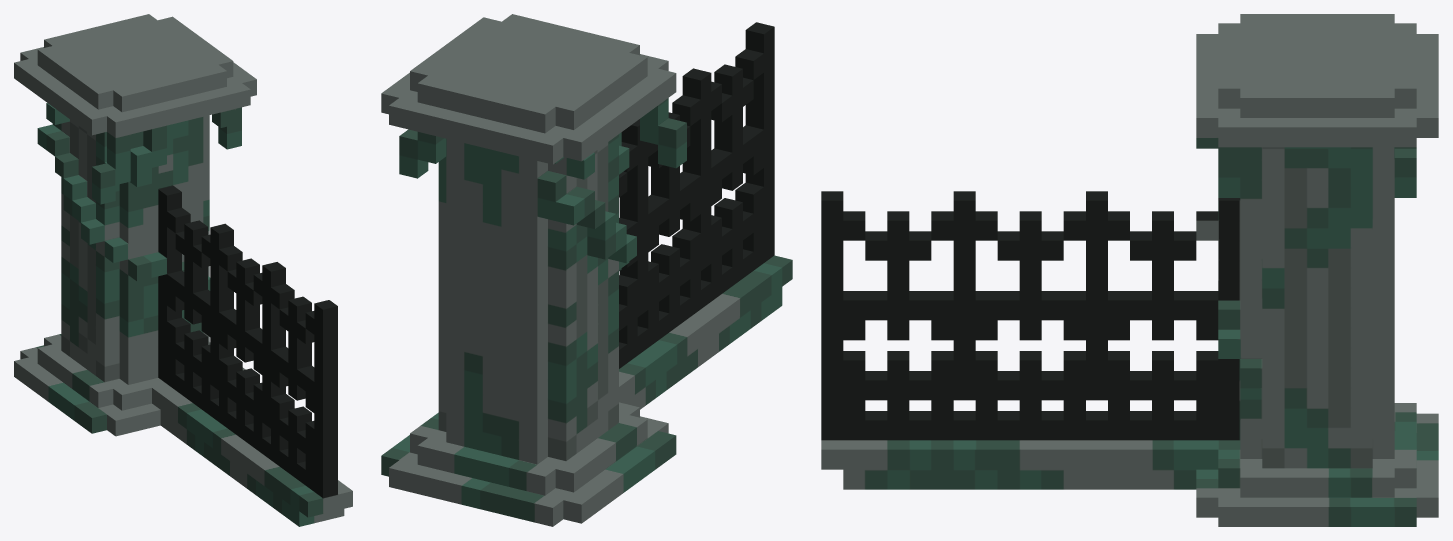
Rendered from fence right.fbx.
The picture shows the model from 3 angles, left to right: view 1: azimuth 30°, elevation 25°; view 2: azimuth 150°, elevation 25°; view 3: azimuth 270°, elevation 25°; orthographic projection. The views are drawn at different scales.
Visible parts, largest first — view 1: fences right; view 2: fences right; view 3: fences right.
Part boxes in pixels (bbox=[...]): fences right: bbox=[14, 14, 352, 526]; fences right: bbox=[381, 14, 792, 526]; fences right: bbox=[821, 14, 1438, 526].
Size of the model in its own units: 5.77 by 11.02 by 14.69.
